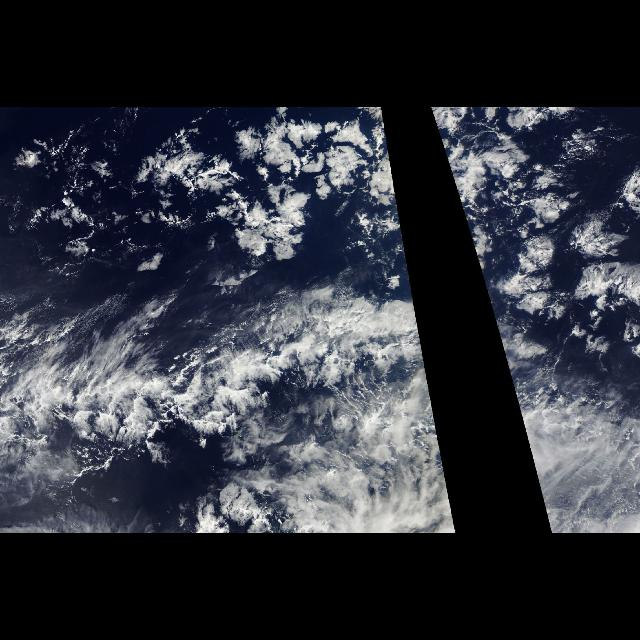Flower: (124, 108, 423, 354), (429, 108, 639, 354)
